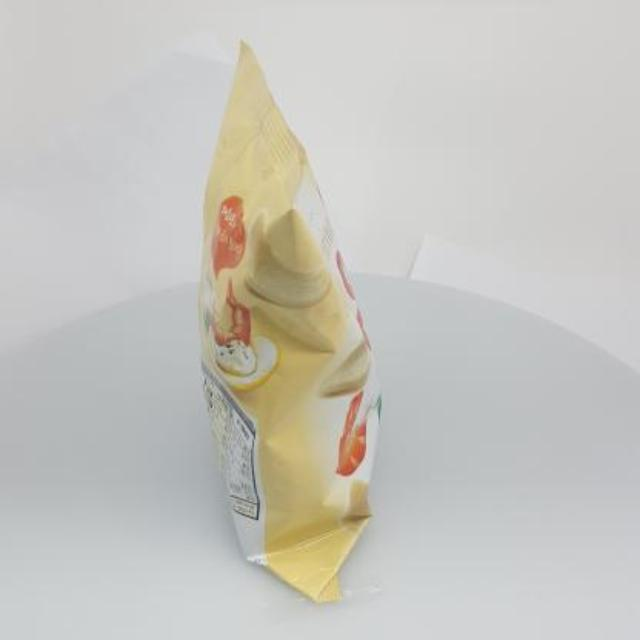snack_bag: (175, 32, 405, 612)
